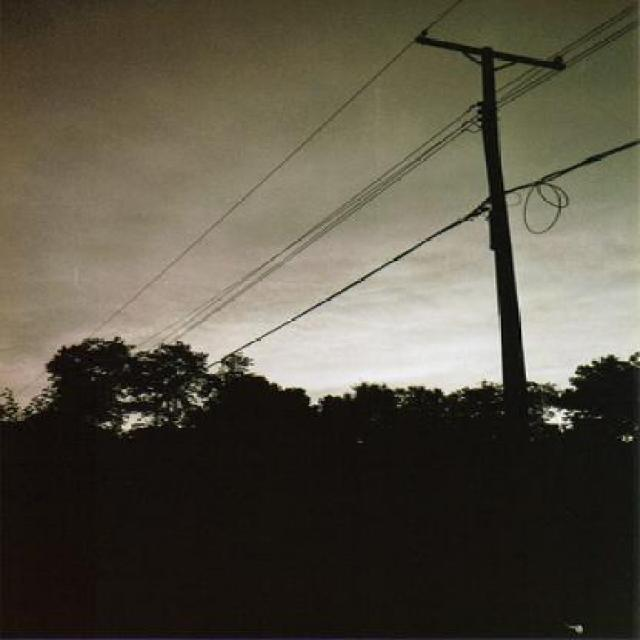pole: (407, 34, 605, 386)
